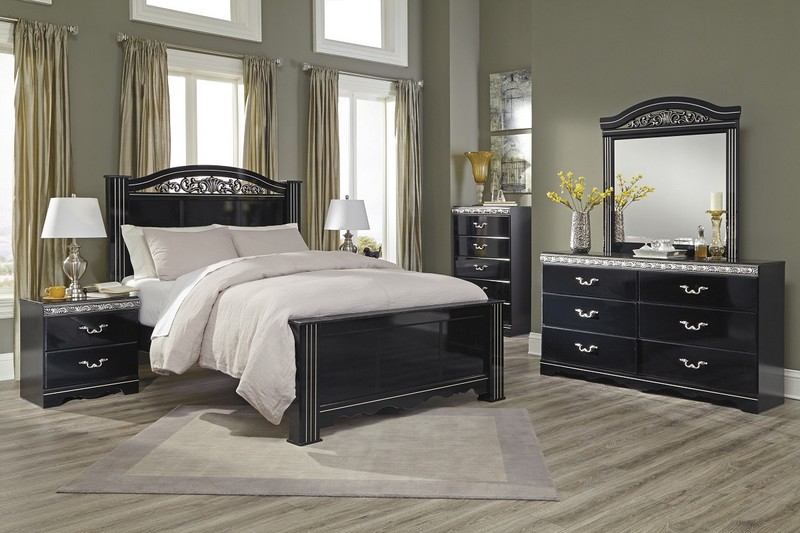bed: (107, 161, 508, 442)
lamp: (41, 194, 103, 298), (323, 192, 371, 256)
stool: (19, 294, 144, 400), (452, 203, 531, 337)
